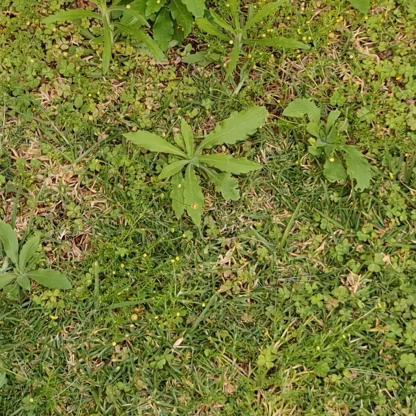Weeds: (119, 104, 270, 230), (41, 3, 164, 78), (186, 0, 308, 75), (282, 94, 371, 194), (0, 213, 74, 309)
